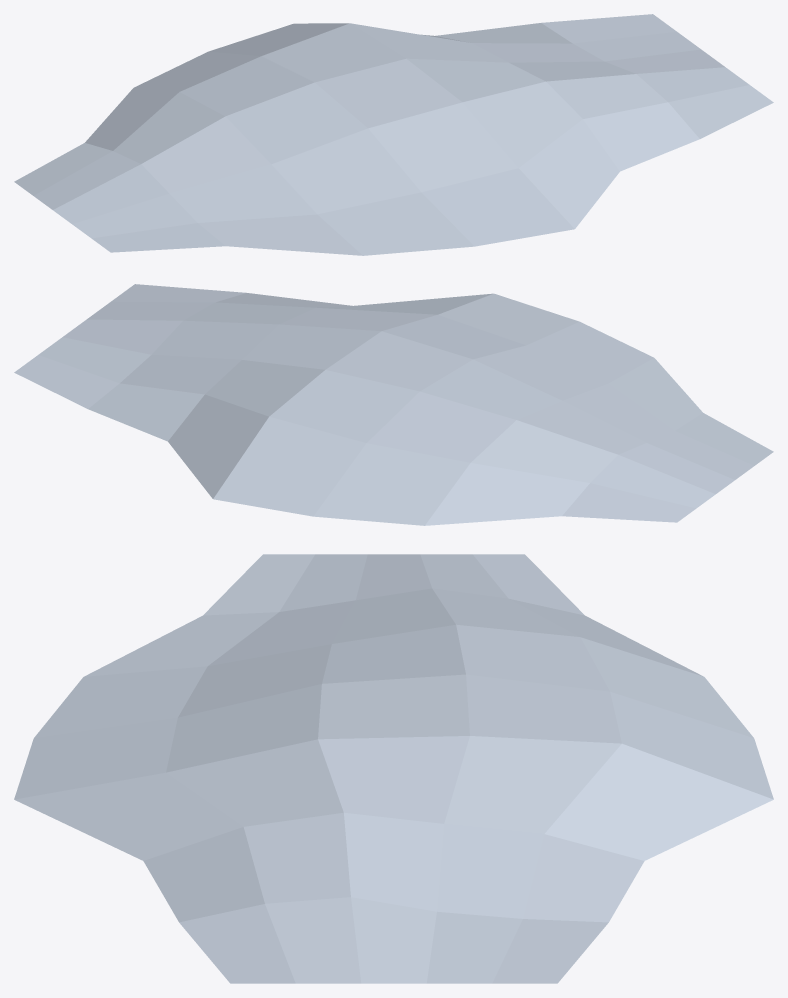
Rendered from rail_snow_drift_patch.glb.
3 views of the same model, one above another, from view 1: azimuth 30°, elevation 25°; view 2: azimuth 150°, elevation 25°; view 3: azimuth 270°, elevation 25° (orthographic). The views are drawn at different scales.
Visible parts, largest first — view 1: snow; view 2: snow; view 3: snow.
Part boxes in pixels (x1=…): snow: x1=14, y1=14, x2=773, y2=255; snow: x1=14, y1=284, x2=773, y2=525; snow: x1=14, y1=554, x2=773, y2=983.
Size of the model in its own units: 2.6 by 0.18 by 1.94.
